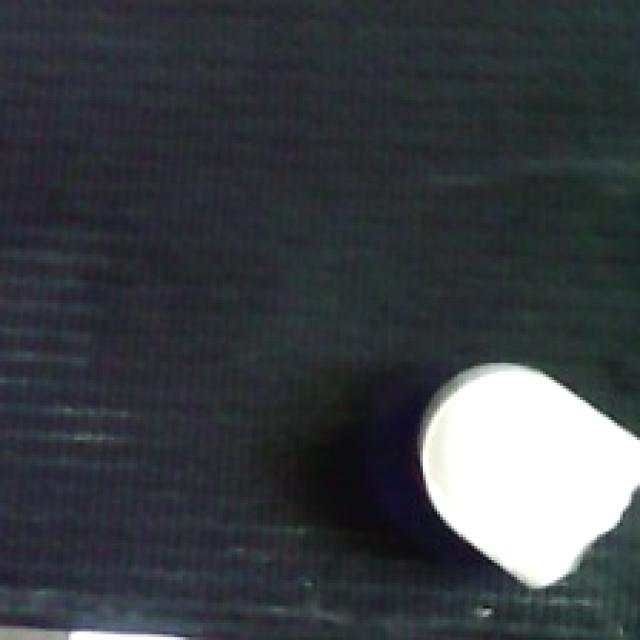defected: (403, 357, 640, 600)
